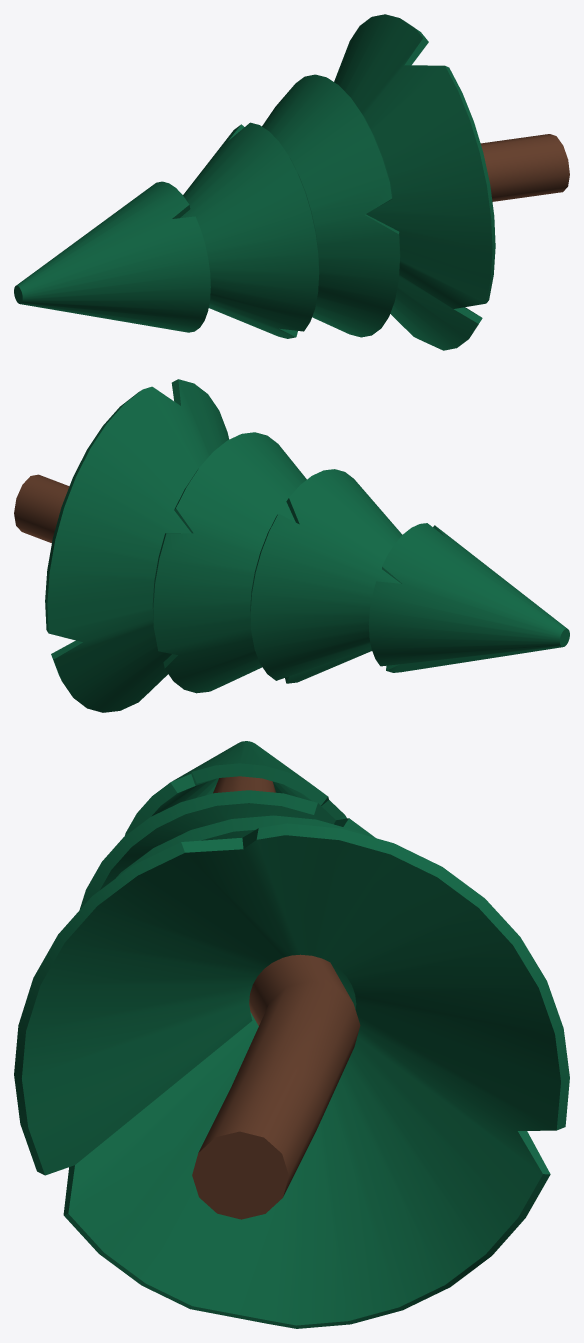
Rendered from pinheiro.fbx.
3 views of the same model, one above another, from view 1: azimuth 30°, elevation 25°; view 2: azimuth 150°, elevation 25°; view 3: azimuth 270°, elevation 25° (orthographic). The views are drawn at different scales.
Visible parts, largest first — view 1: Circle; view 2: Circle; view 3: Circle.
Part boxes in pixels (x1,y1,x2,y2): Circle: (14, 14, 569, 350); Circle: (14, 379, 569, 712); Circle: (14, 741, 569, 1328).
Bounding box in the file's own units: 1570 × 867 × 866.
